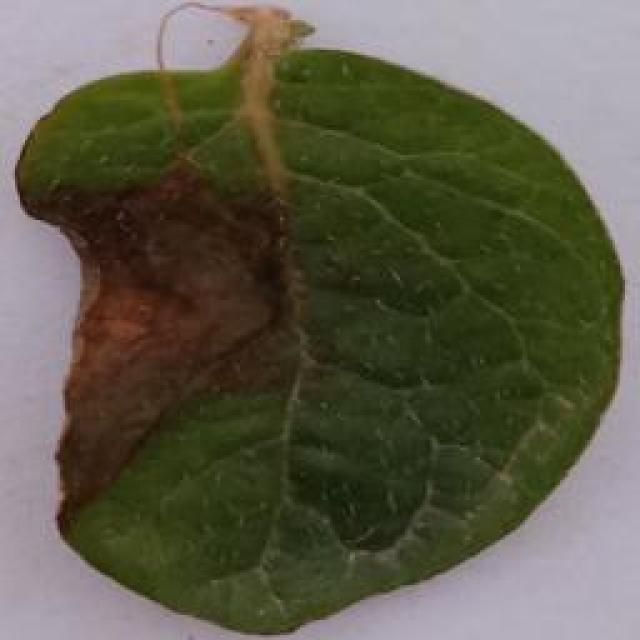Potato_Late_Blight: (19, 28, 616, 637)
